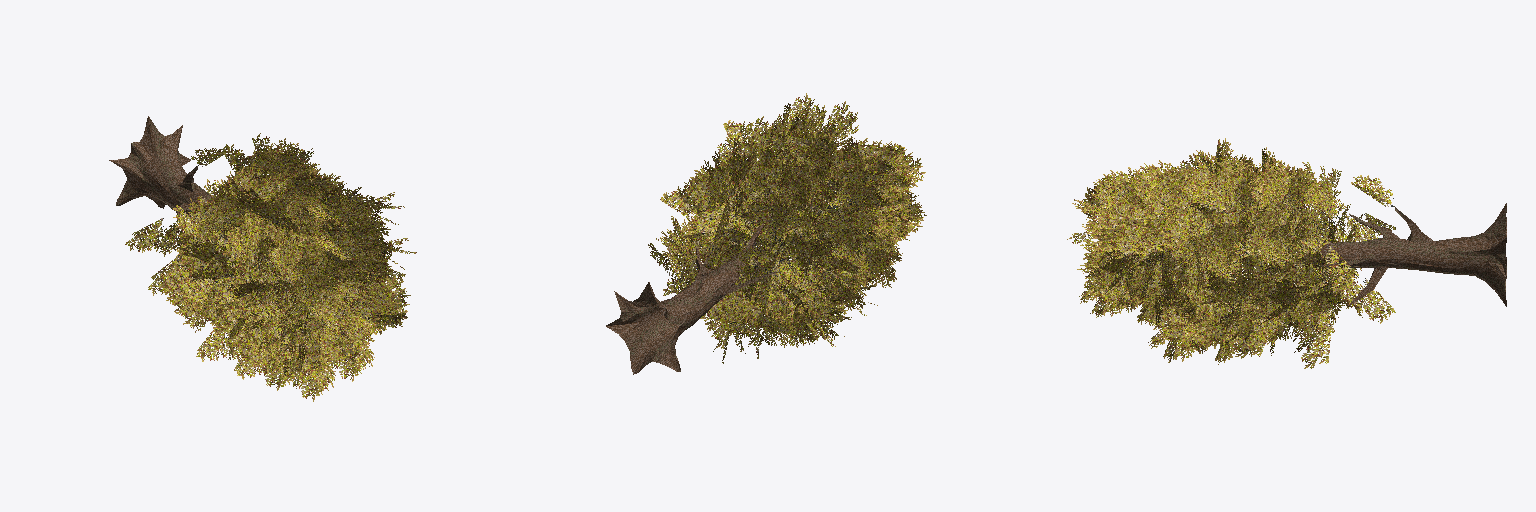
3 renders of one model, left to right at view 1: azimuth 30°, elevation 25°; view 2: azimuth 150°, elevation 25°; view 3: azimuth 270°, elevation 25°, orthographic.
Visible parts, largest first — view 1: Cylinder; view 2: Cylinder; view 3: Cylinder.
Boxes of the visible parts, box(x1,y1,x2,y2) form: Cylinder: box(109, 116, 416, 401); Cylinder: box(606, 93, 926, 374); Cylinder: box(1067, 138, 1506, 368).
Bounding box in the file's own units: 591 × 571 × 988.
2 materials, 2 textured.